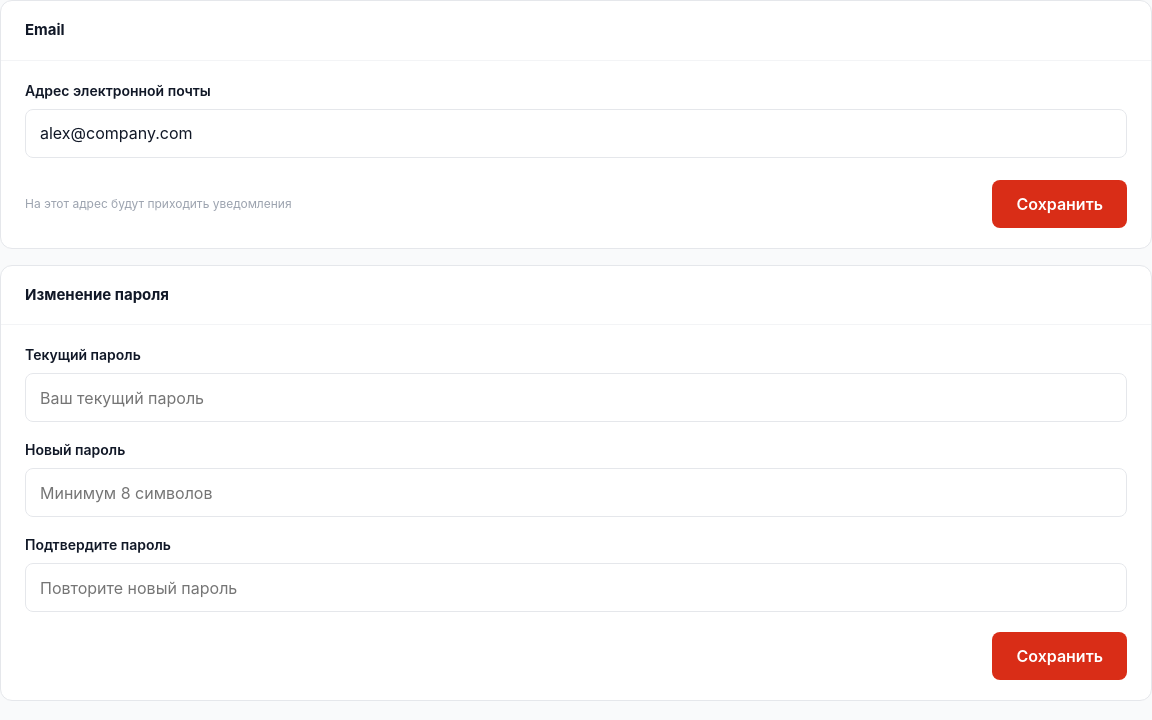
Scenario: keeps profile changes local and shows a saved state
Replace the text in the field labelled "Адрес электронной почты" with "new@company.com" at coordinates (576, 133), box [25,108,1127,158]
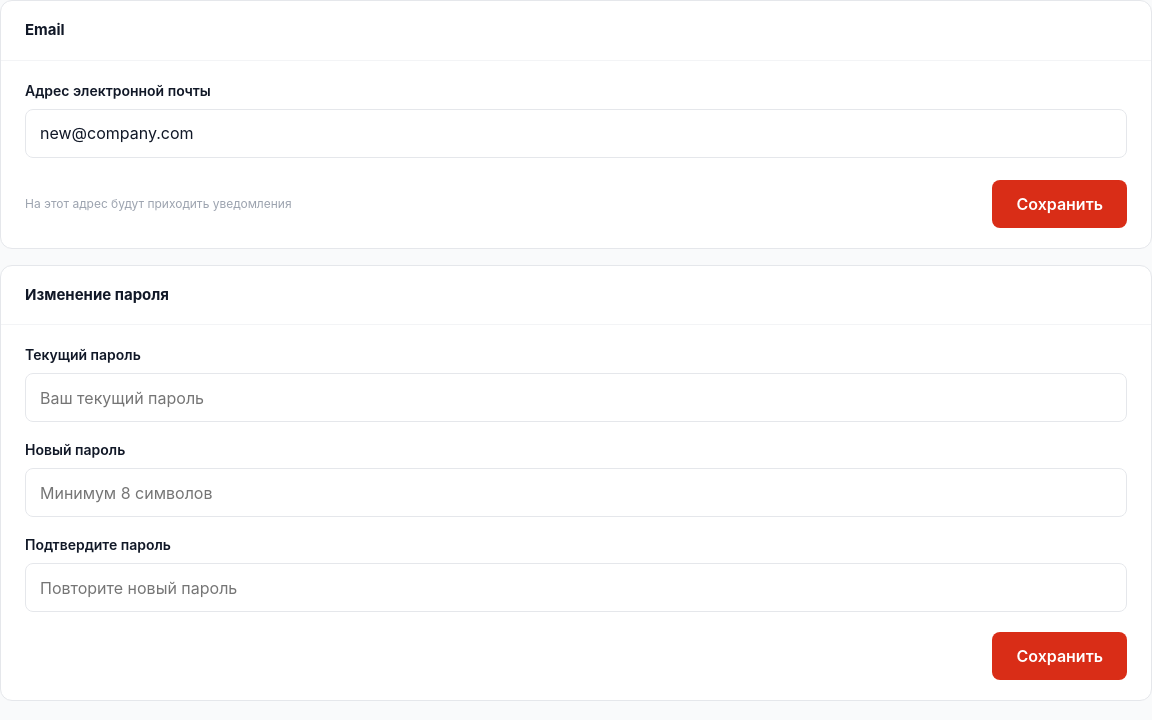
Submit the form that starts with "Email", box [0,0,1151,248]
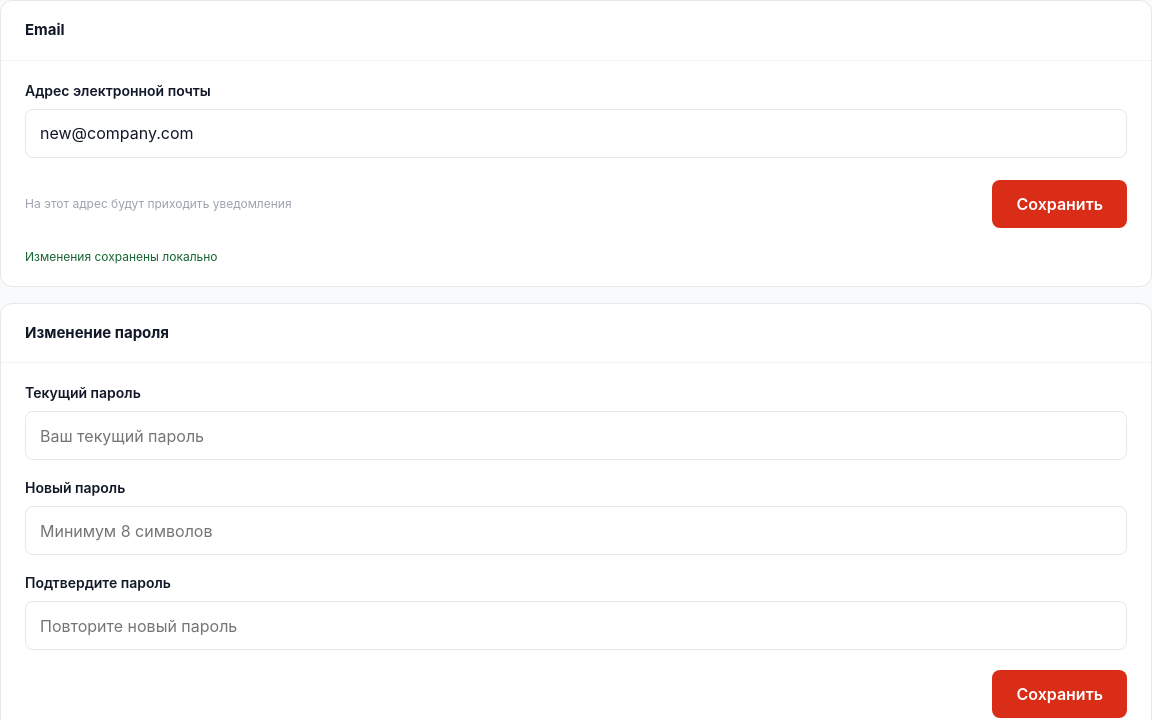
Result: the text "Изменения сохранены локально" is shown at [25,248,218,264]
